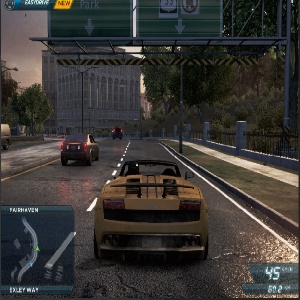building: (42, 45, 148, 132)
road sign: (49, 1, 224, 40)
tree: (176, 53, 233, 143), (146, 50, 181, 132), (19, 86, 52, 137)
vehicle: (63, 125, 100, 164), (1, 122, 17, 150), (109, 124, 123, 140)
